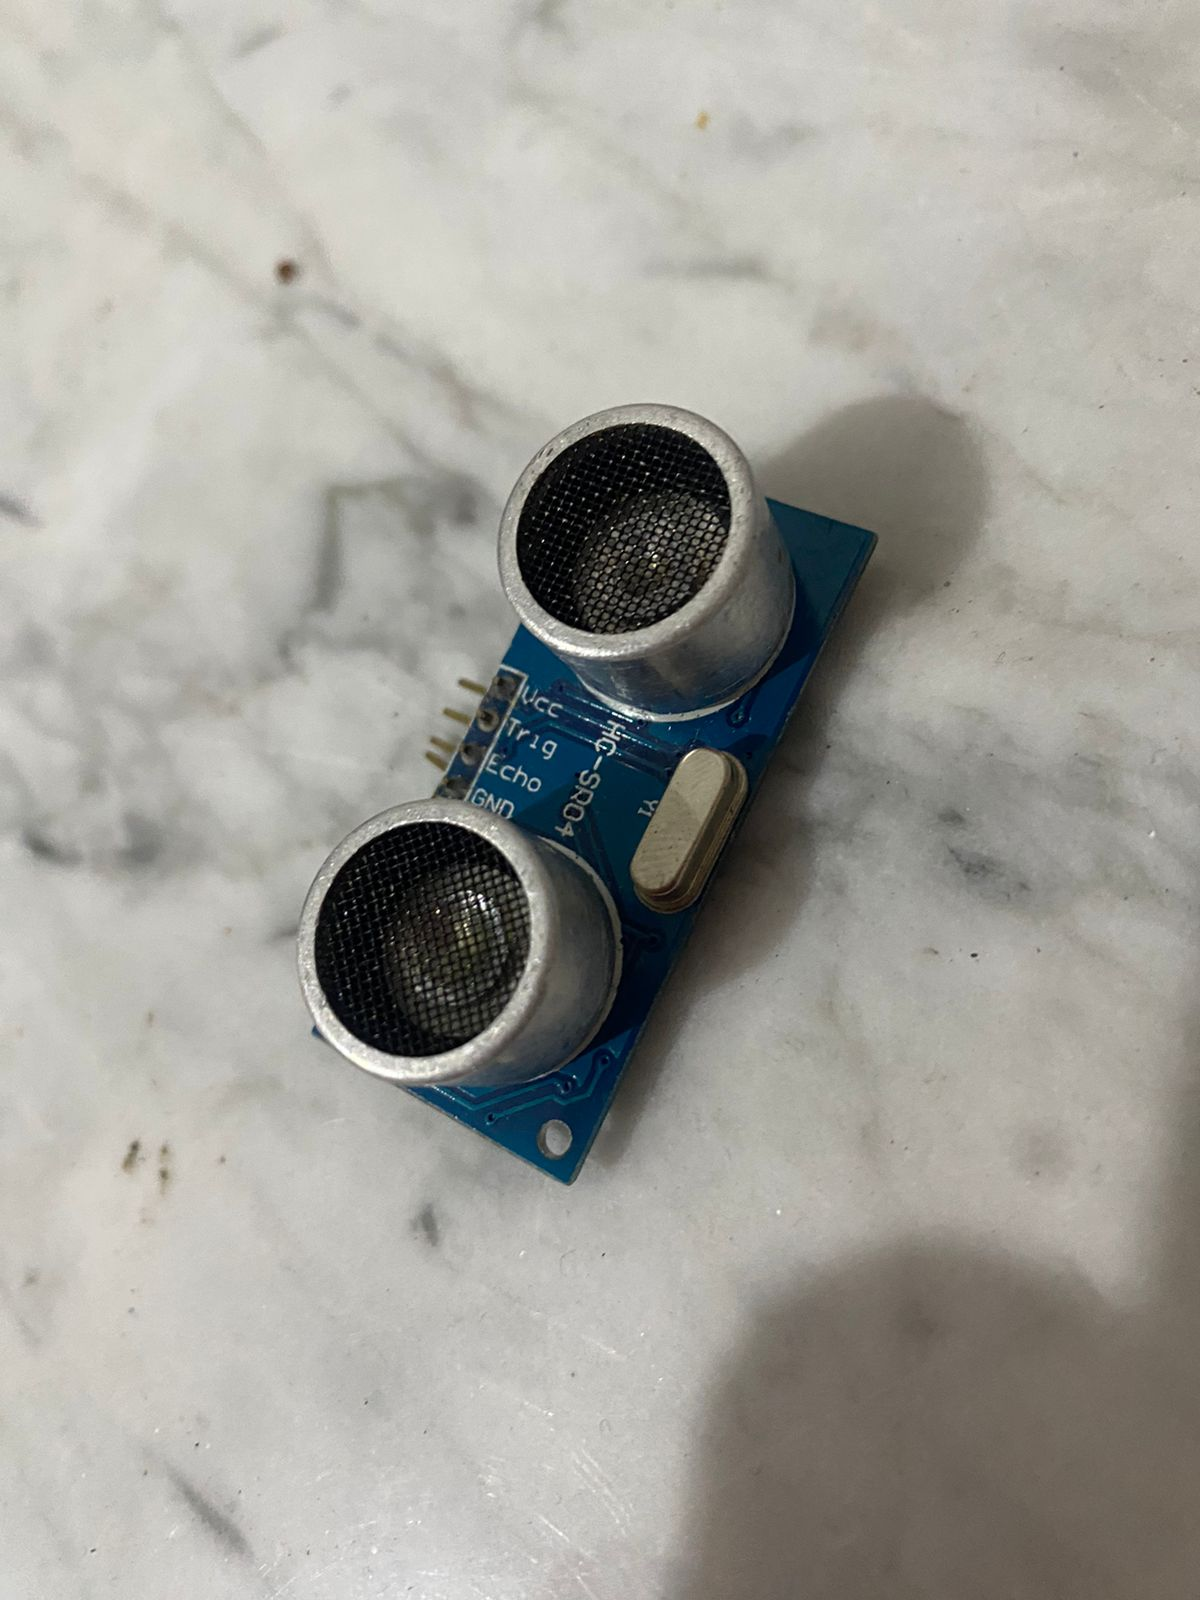capteur-ultrasonique: (286, 384, 887, 1208)
